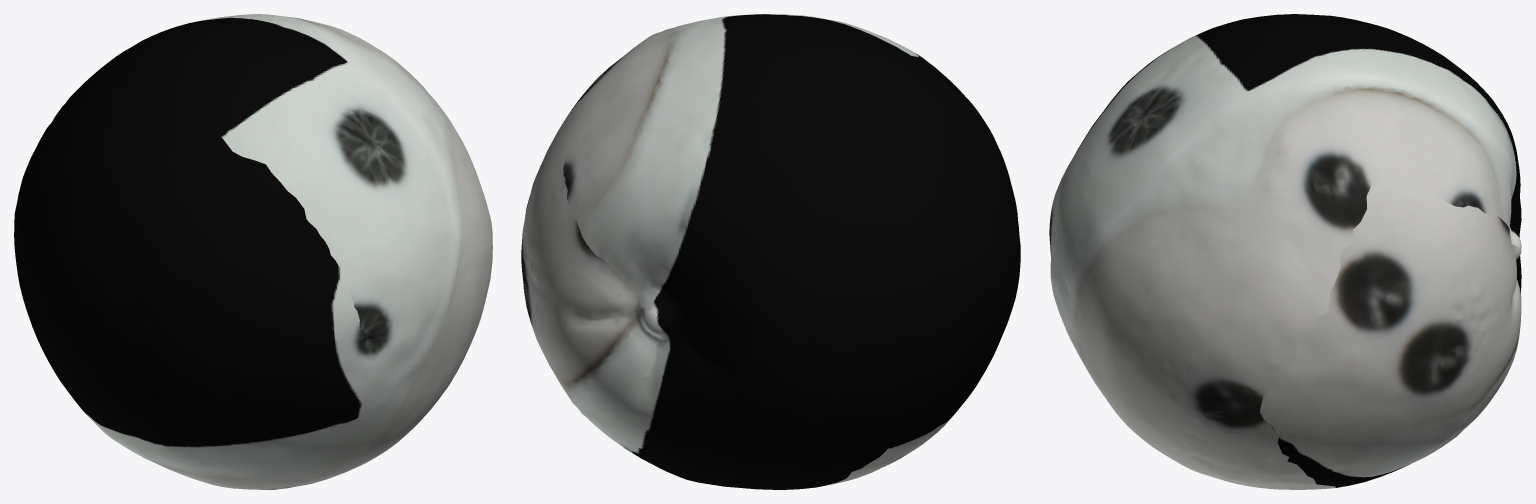
3 views of the same model, side by side, from view 1: azimuth 30°, elevation 25°; view 2: azimuth 150°, elevation 25°; view 3: azimuth 270°, elevation 25° (orthographic). The views are drawn at different scales.
Parts seen in each view (by area): view 1: textured.016; view 2: textured.016; view 3: textured.016.
Boxes of the visible parts, x1,y1,x2,y2 form: textured.016: [14, 14, 492, 489]; textured.016: [521, 14, 1020, 489]; textured.016: [1049, 14, 1521, 489].
Size of the model in its own units: 0.074 by 0.0722 by 0.0714.
